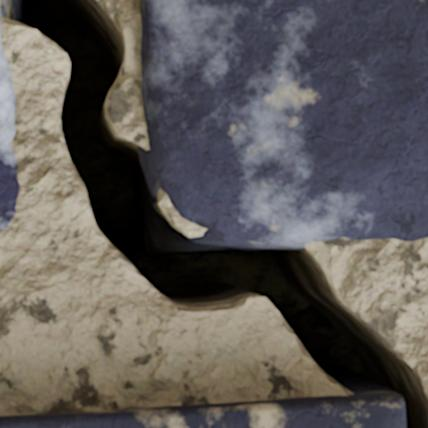brick: (141, 0, 427, 243), (0, 395, 404, 427), (0, 39, 18, 230), (0, 0, 2, 16)
crack: (2, 0, 427, 427), (426, 30, 427, 40)
